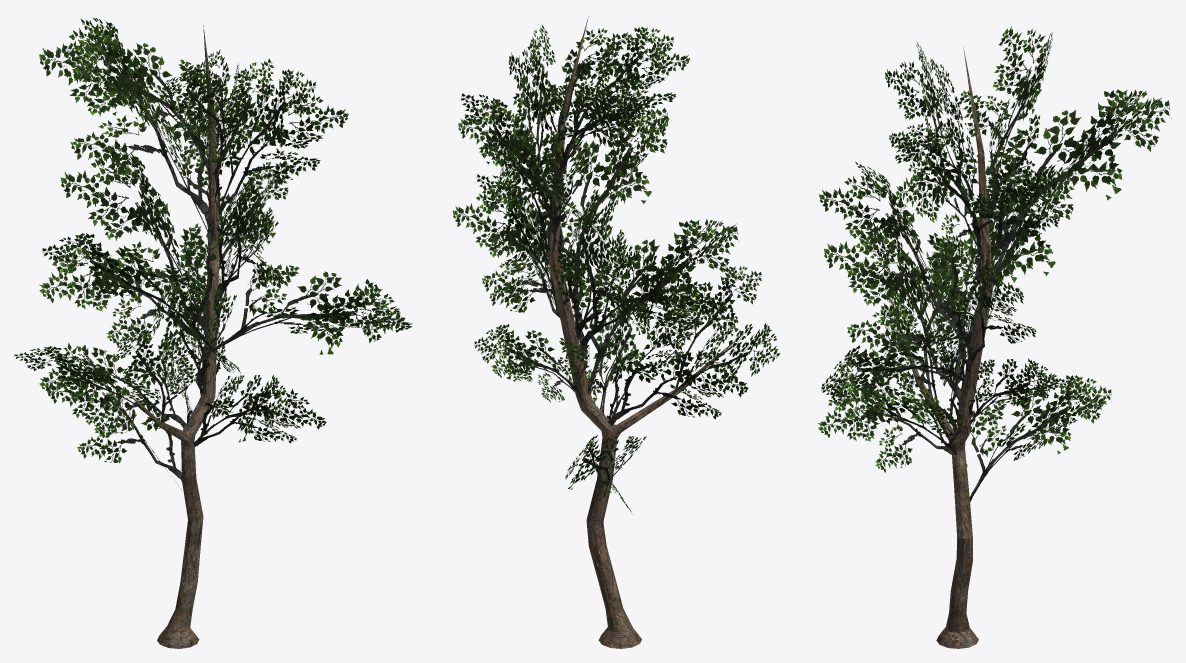
The model's file is tree_4.dae.
The picture shows the model from 3 angles, left to right: view 1: azimuth 30°, elevation 25°; view 2: azimuth 150°, elevation 25°; view 3: azimuth 270°, elevation 25°; orthographic projection. The views are drawn at different scales.
Parts seen in each view (by area): view 1: Mesh_Object; view 2: Mesh_Object; view 3: Mesh_Object.
Boxes of the visible parts, bbox=[...] form: Mesh_Object: bbox=[14, 18, 412, 648]; Mesh_Object: bbox=[452, 16, 780, 648]; Mesh_Object: bbox=[818, 26, 1171, 648].
Bounding box in the file's own units: 6.29 × 10.62 × 5.7.
